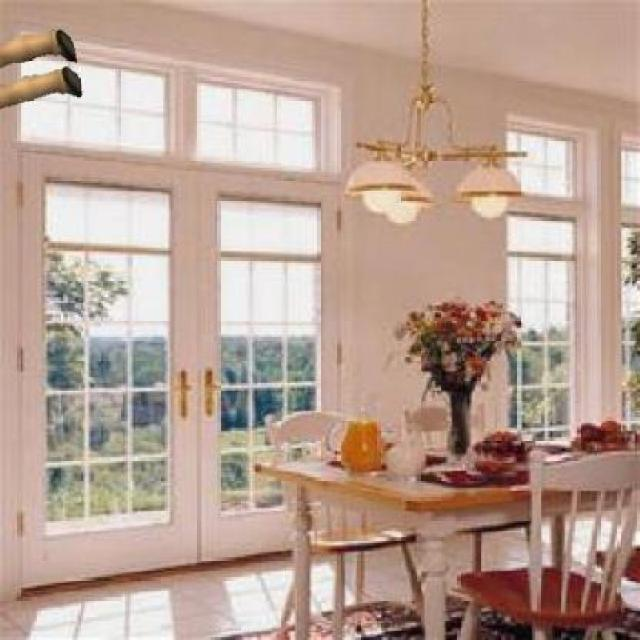Person: (0, 24, 86, 110)
